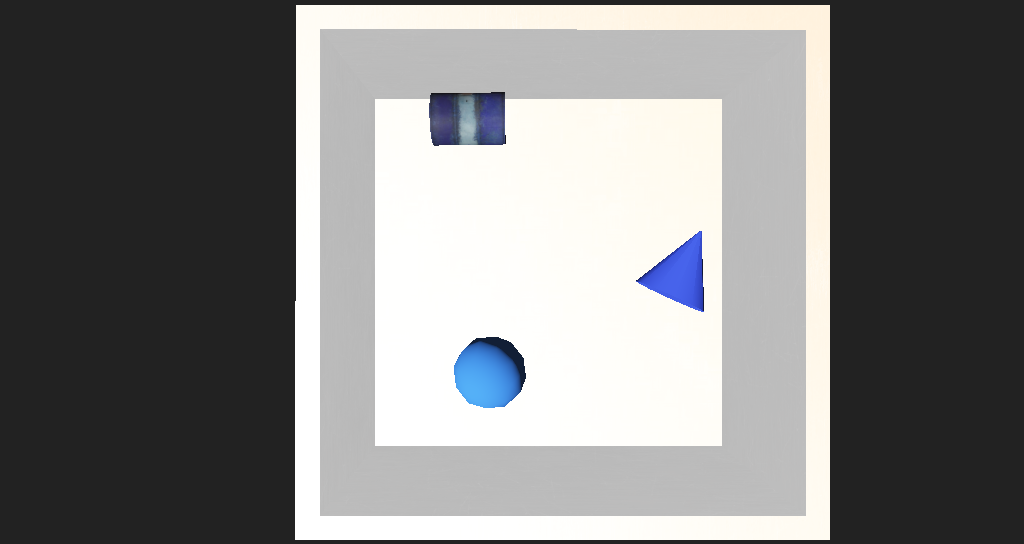cone: (397, 153, 465, 191)
cylinder: (576, 231, 677, 293)
sphere: (428, 305, 488, 353)
